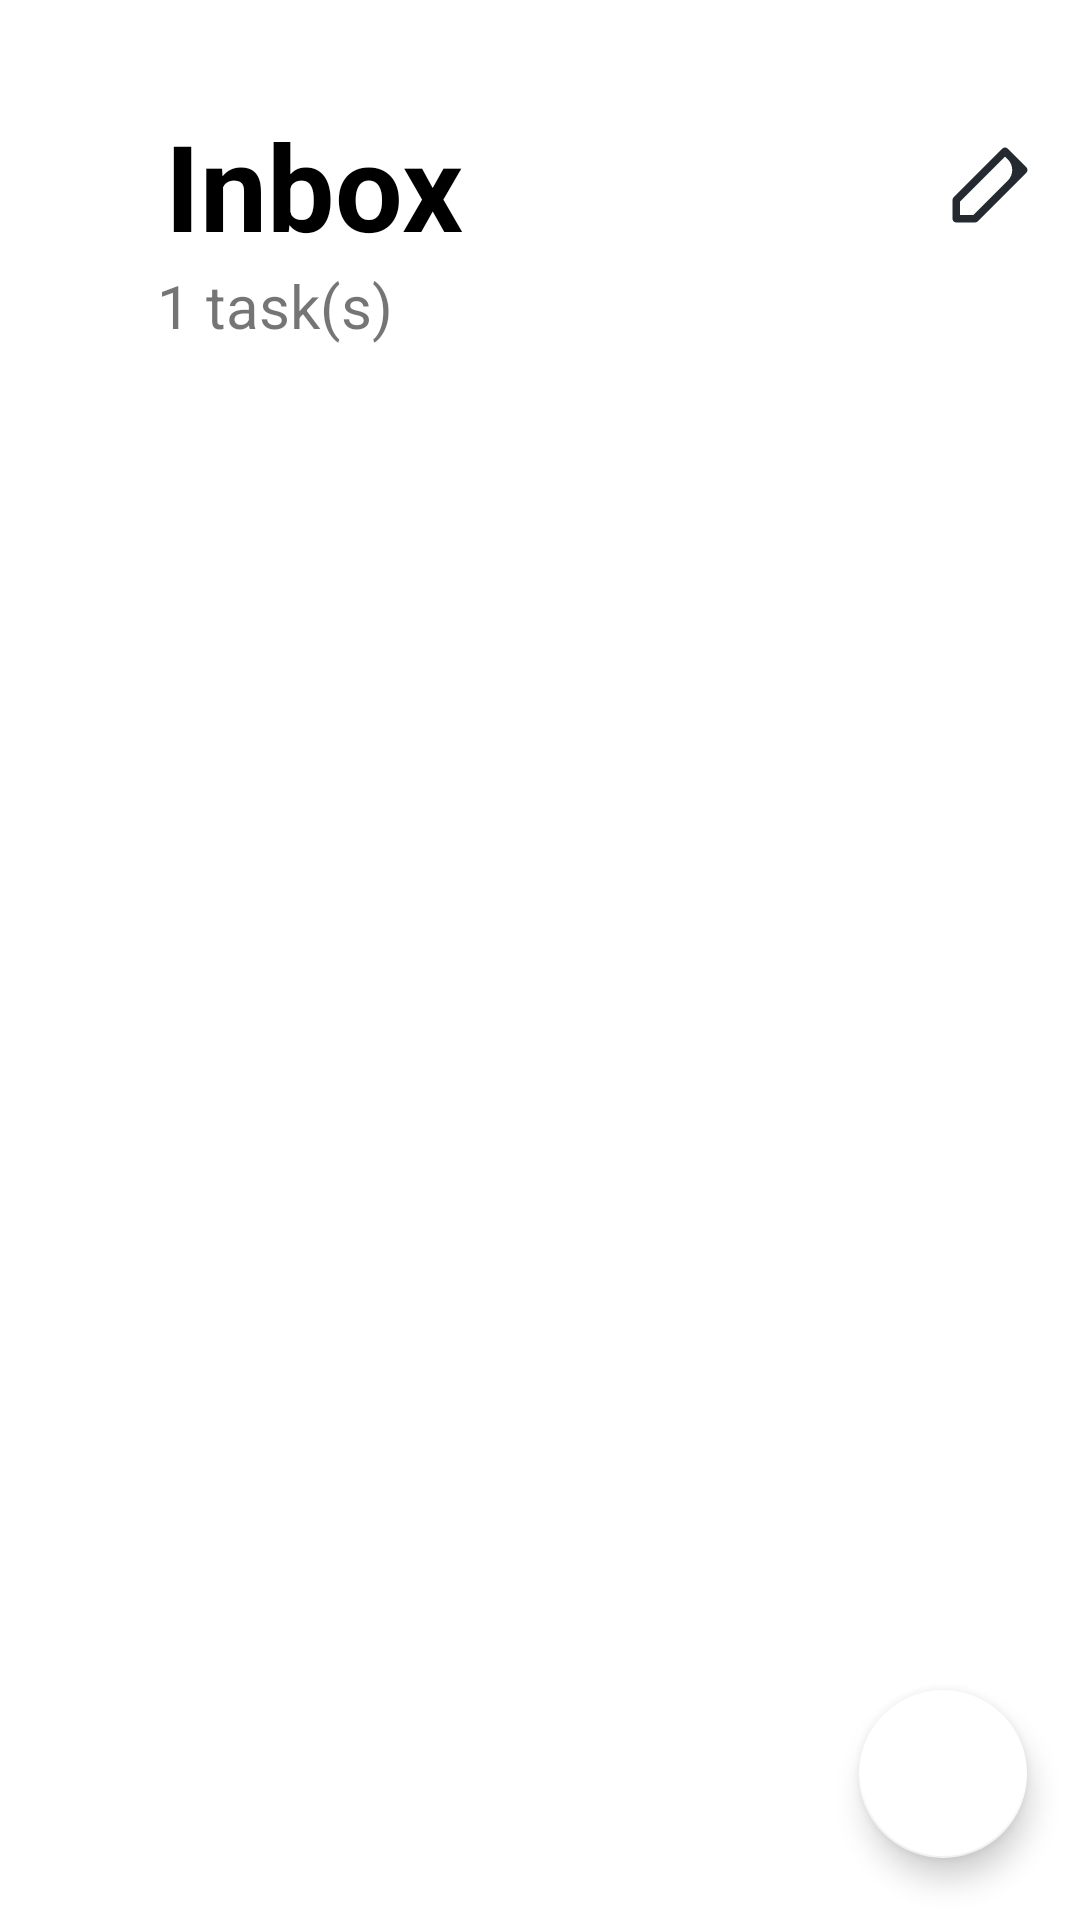

Icons on this 1080x1920 Android screen, each with its box as (x1, y1, x2, y2):
edit: (952, 147, 1028, 223)
